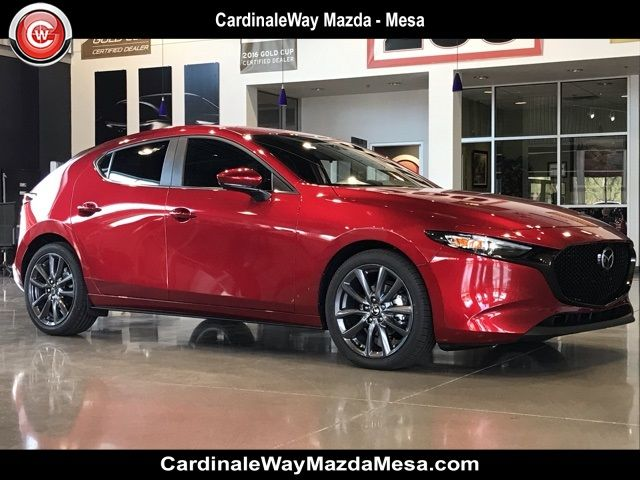Mazda3 Hatchback: (11, 126, 635, 370)
